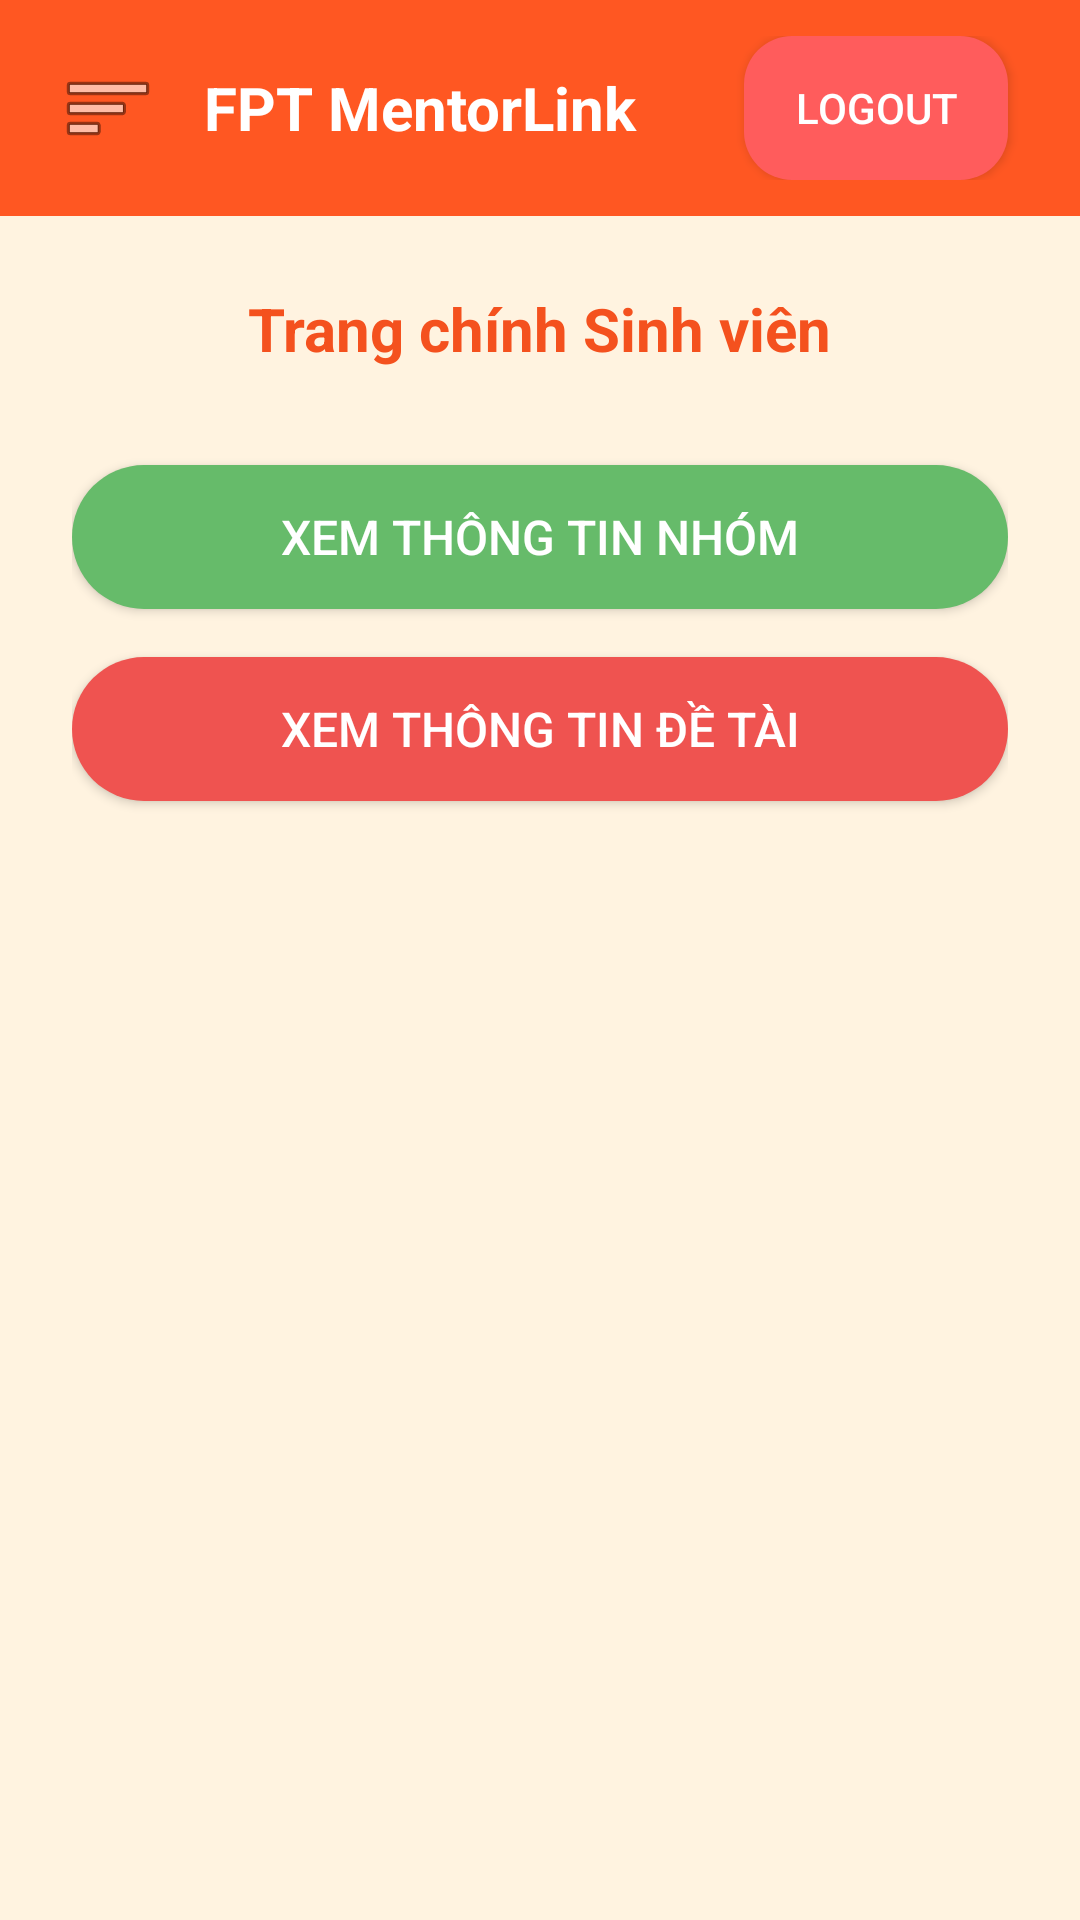

Where icons sit on this 1080w x 1920h app screen, as box(x1, y1, x2, y2):
Menu: box(67, 82, 149, 135)
